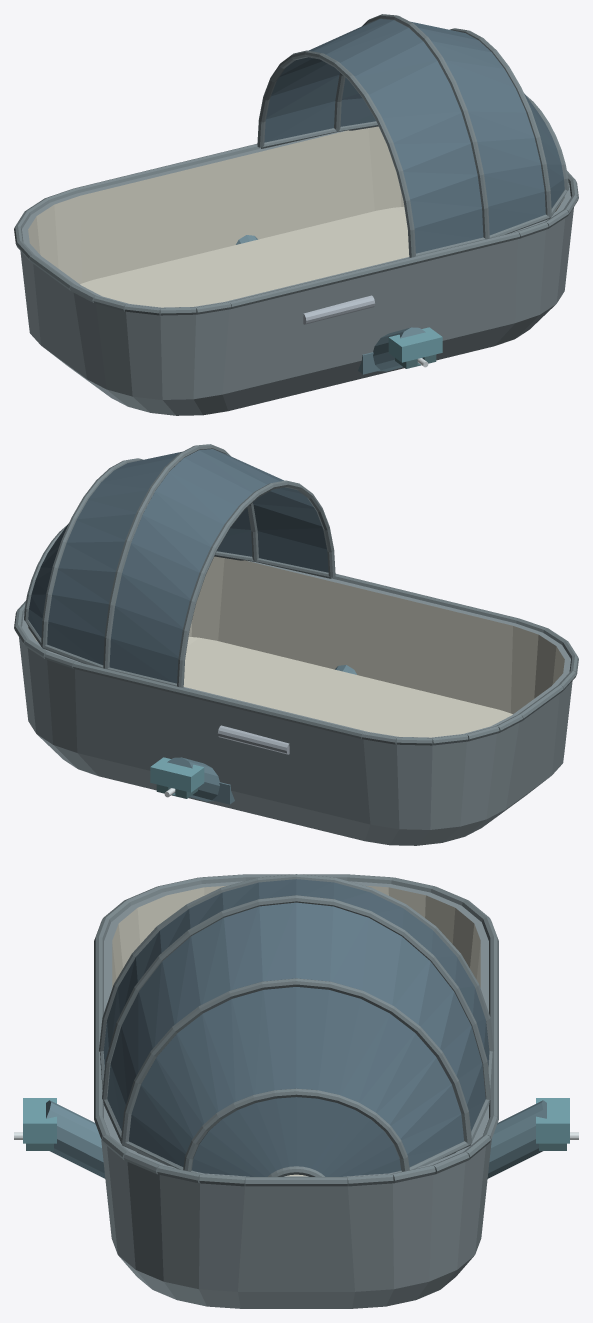
3 renders of one model, top to bottom at view 1: azimuth 30°, elevation 25°; view 2: azimuth 150°, elevation 25°; view 3: azimuth 270°, elevation 25°, orthographic. The views are drawn at different scales.
Visible parts, largest first — view 1: S06_Cabin, S06_Cabin_Mount_M; view 2: S06_Cabin, S06_Cabin_Mount_M; view 3: S06_Cabin, S06_Cabin_Mount_M.
Part boxes in pixels (x1,y1,x2,y2): S06_Cabin: (14, 14, 578, 415); S06_Cabin_Mount_M: (236, 235, 442, 374); S06_Cabin: (14, 444, 578, 845); S06_Cabin_Mount_M: (150, 665, 356, 804); S06_Cabin: (94, 874, 498, 1308); S06_Cabin_Mount_M: (14, 1098, 578, 1178).
Size of the model in its own units: 0.725 by 0.3925 by 0.564.
